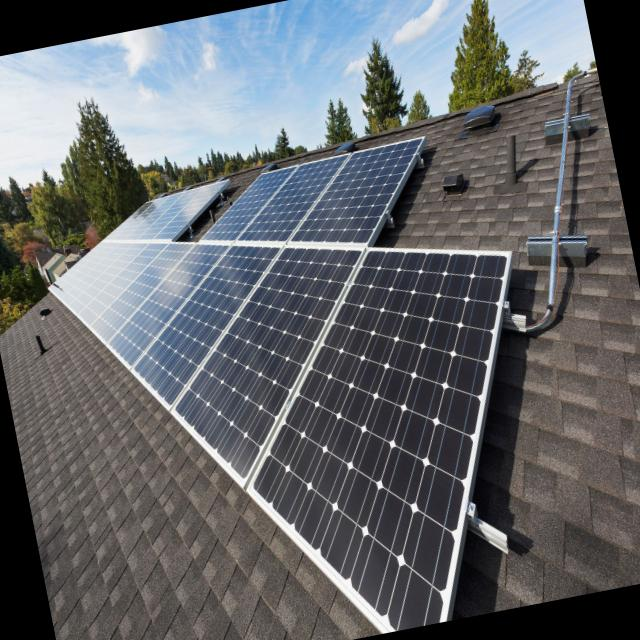no faulty: (80, 141, 512, 629)
